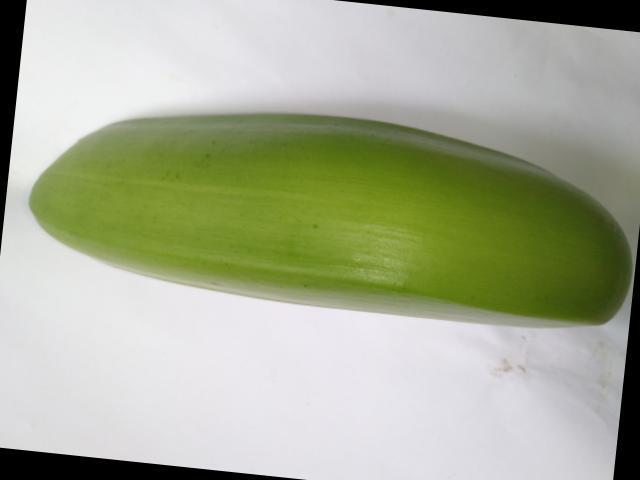freshunripe: (19, 96, 639, 355)
